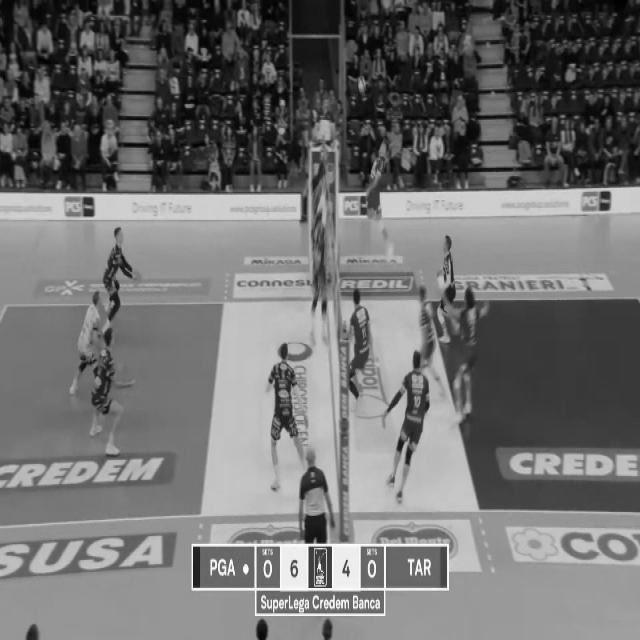volleyball court: (0, 291, 638, 529)
